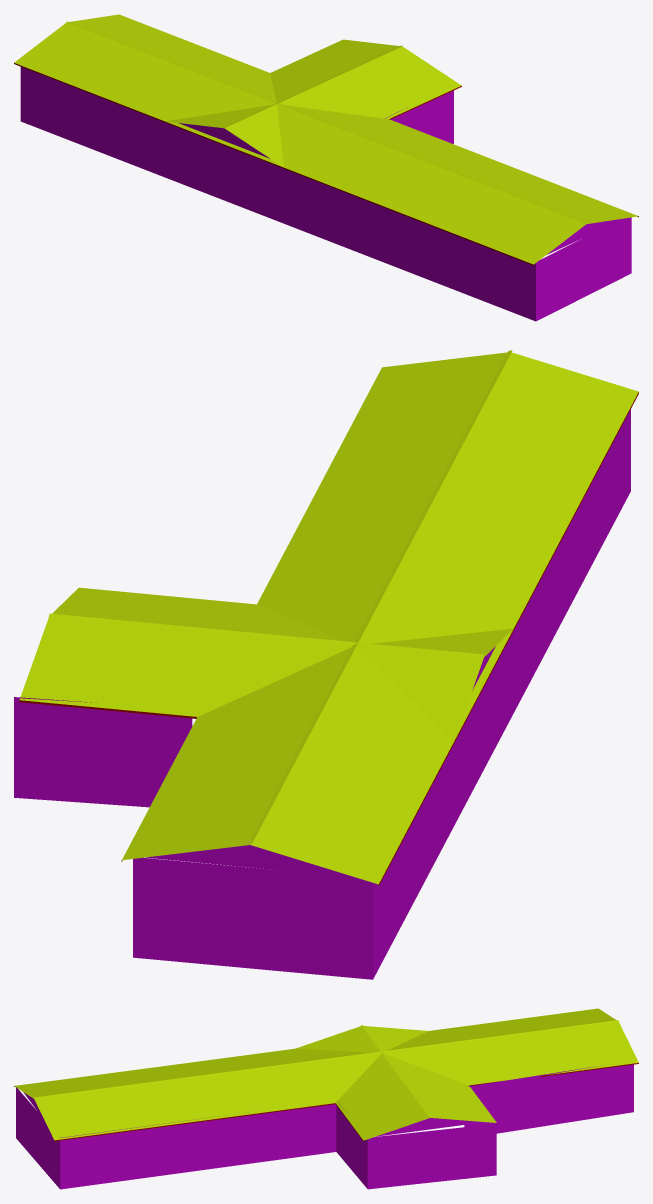
The model's file is sjs_109.glb.
3 renders of one model, top to bottom at view 1: azimuth 30°, elevation 25°; view 2: azimuth 150°, elevation 25°; view 3: azimuth 270°, elevation 25°, orthographic. The views are drawn at different scales.
Parts seen in each view (by area): view 1: sjs_109; view 2: sjs_109; view 3: sjs_109.
Boxes of the visible parts, box(x1,y1,x2,y2) form: sjs_109: box(14, 14, 638, 321); sjs_109: box(14, 350, 638, 979); sjs_109: box(14, 1008, 638, 1189).
Size of the model in its own units: 32.12 by 7.47 by 64.09.
